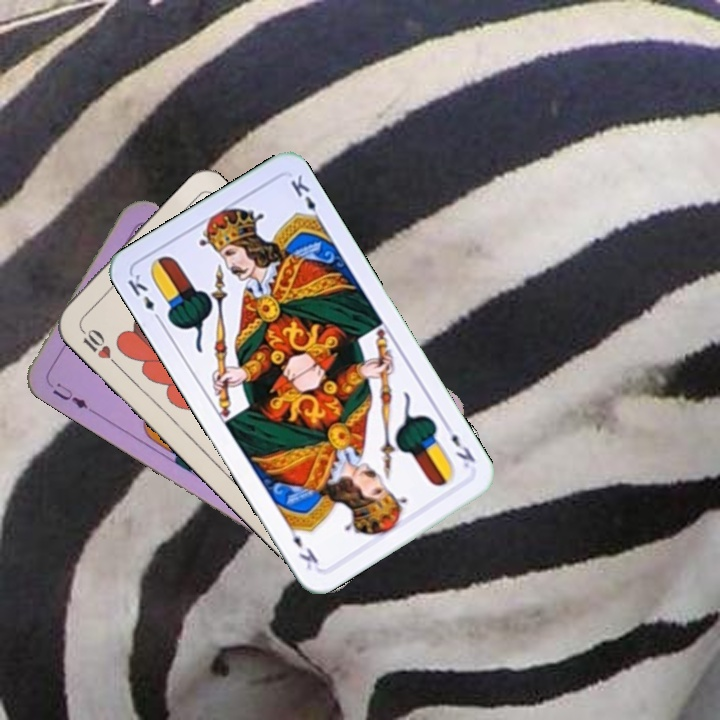EK: (123, 270, 165, 325), (440, 419, 478, 471)
EU: (42, 374, 91, 412)
H10: (75, 322, 121, 369)
